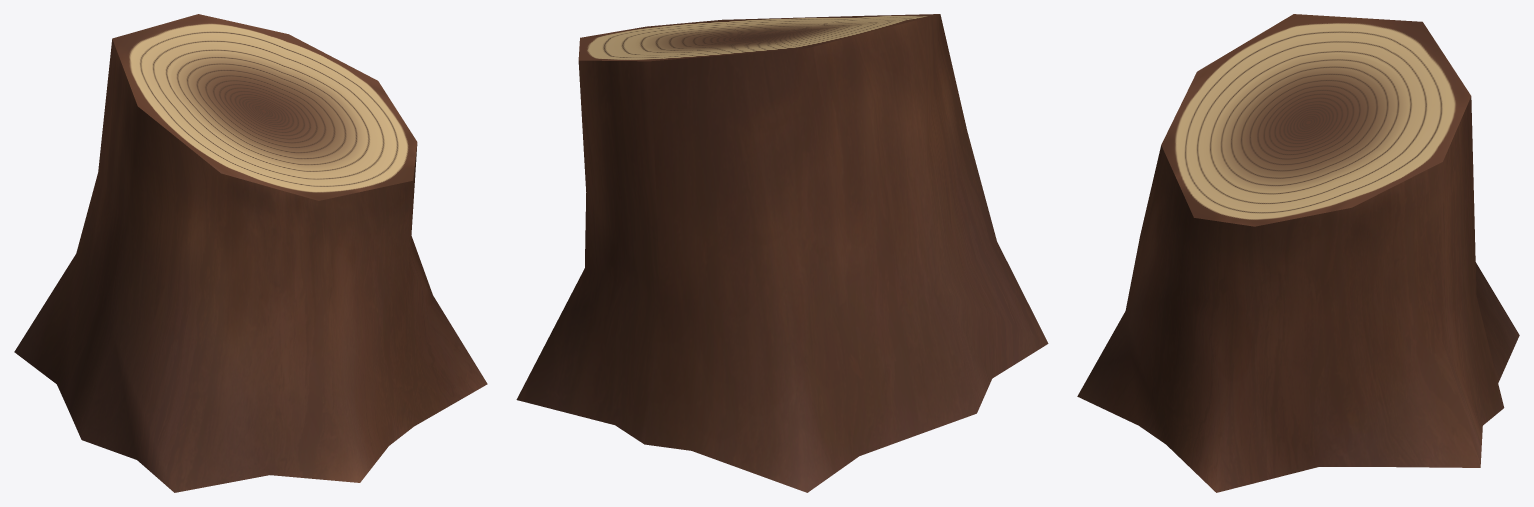
Rendered from Stump.FBX.
The picture shows the model from 3 angles, left to right: view 1: azimuth 30°, elevation 25°; view 2: azimuth 150°, elevation 25°; view 3: azimuth 270°, elevation 25°; orthographic projection. The views are drawn at different scales.
Parts seen in each view (by area): view 1: Cylinder001; view 2: Cylinder001; view 3: Cylinder001.
Part boxes in pixels (left/top/right/bottom): Cylinder001: left=14, top=14, right=487, bottom=492; Cylinder001: left=516, top=14, right=1048, bottom=492; Cylinder001: left=1077, top=14, right=1519, bottom=492.
Size of the model in its own units: 9.26 by 8.24 by 9.78.
